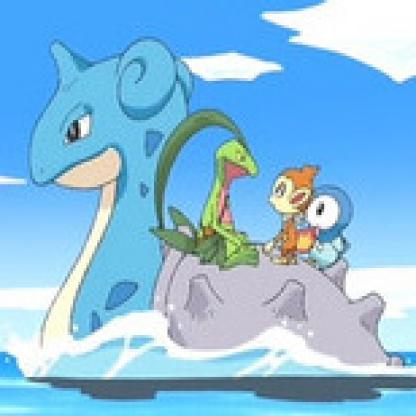Lapras: (1, 26, 415, 406)
